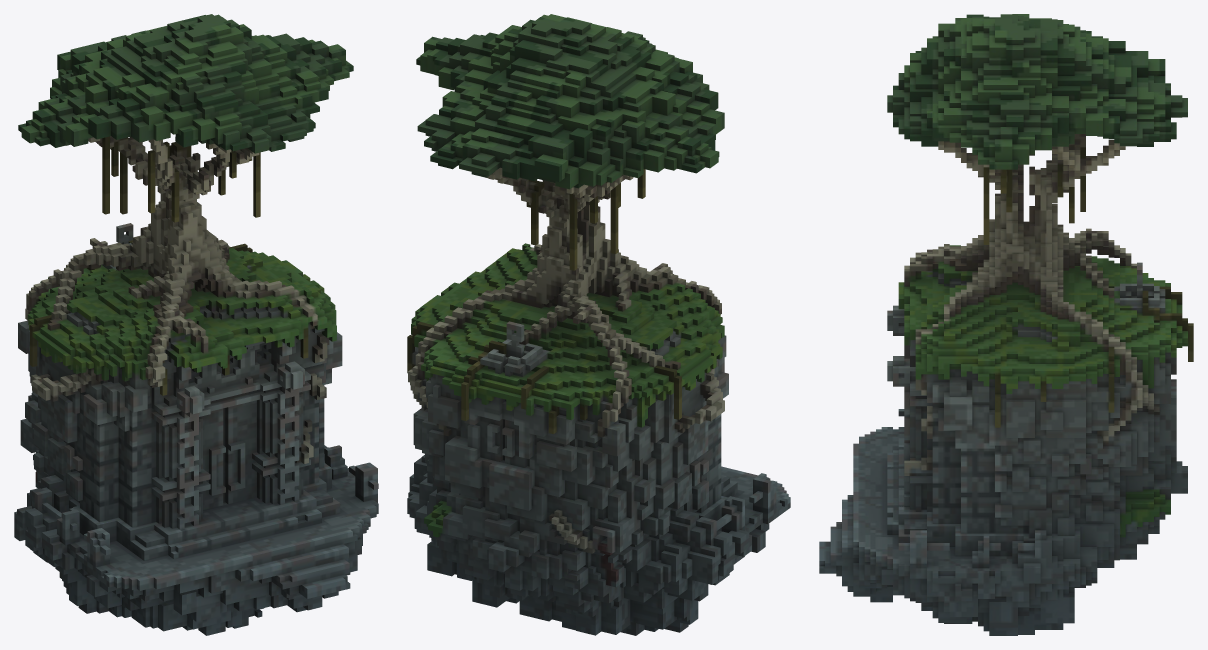
Rendered from gate.glb.
The picture shows the model from 3 angles, left to right: view 1: azimuth 30°, elevation 25°; view 2: azimuth 150°, elevation 25°; view 3: azimuth 270°, elevation 25°; orthographic projection. The views are drawn at different scales.
Parts seen in each view (by area): view 1: Mesh_0; view 2: Mesh_0; view 3: Mesh_0.
Part boxes in pixels (<box>): Mesh_0: <box>14,14,378,635</box>; Mesh_0: <box>407,14,790,635</box>; Mesh_0: <box>819,14,1193,635</box>.
Size of the model in its own units: 6.4 by 11.2 by 6.6.
Materials: 1 (1 with a texture image).
